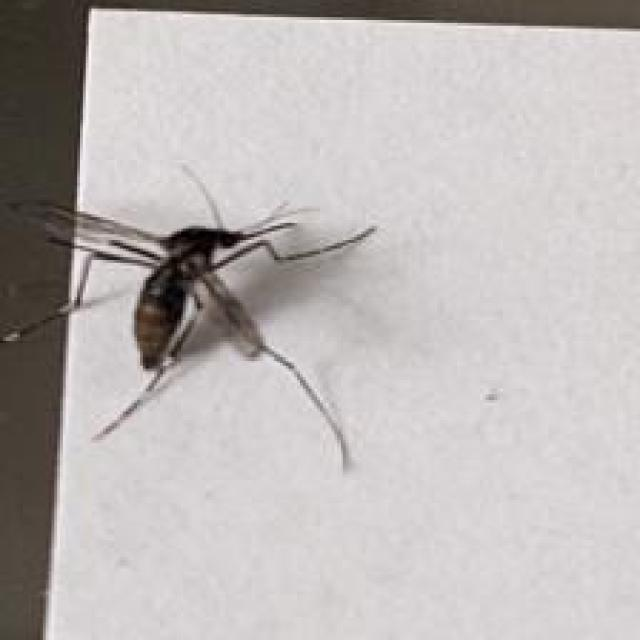Aedes albopictus: (0, 163, 377, 474)
